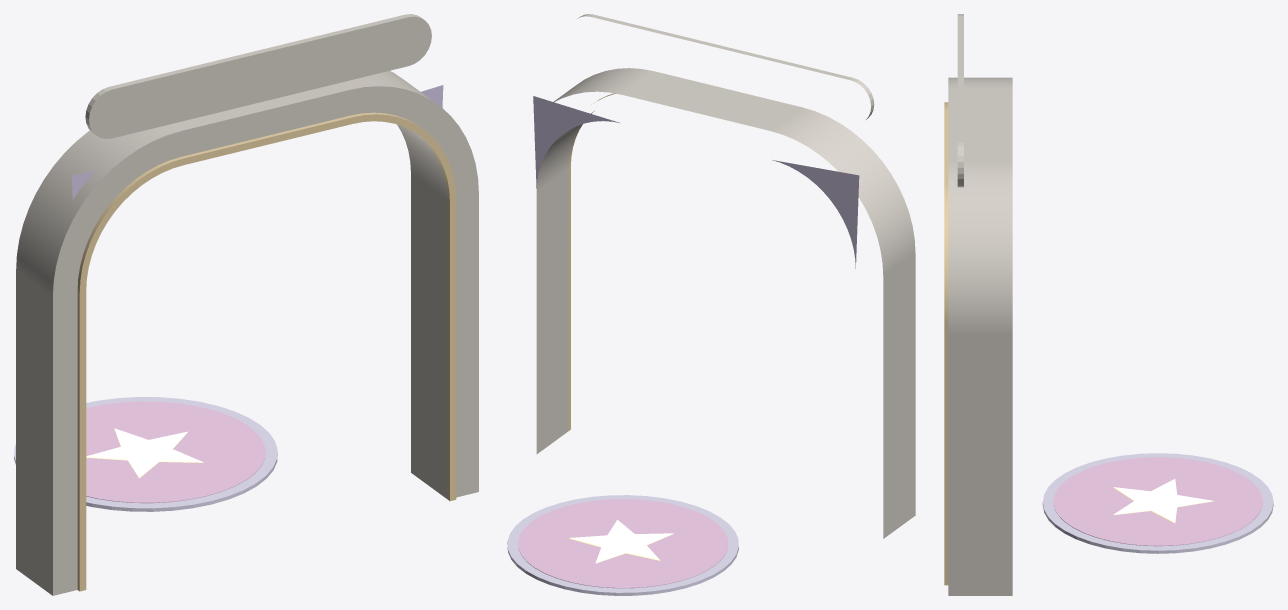
Rendered from arcade_arch.glb.
The picture shows the model from 3 angles, left to right: view 1: azimuth 30°, elevation 25°; view 2: azimuth 150°, elevation 25°; view 3: azimuth 270°, elevation 25°; orthographic projection. The views are drawn at different scales.
Parts seen in each view (by area): view 1: Arcade arch; view 2: Arcade arch; view 3: Arcade arch.
Part boxes in pixels (x1,y1,x2,y2): Arcade arch: [14, 14, 478, 595]; Arcade arch: [507, 14, 915, 595]; Arcade arch: [944, 14, 1273, 595].
Size of the model in its own units: 3.28 by 3.58 by 2.51.
